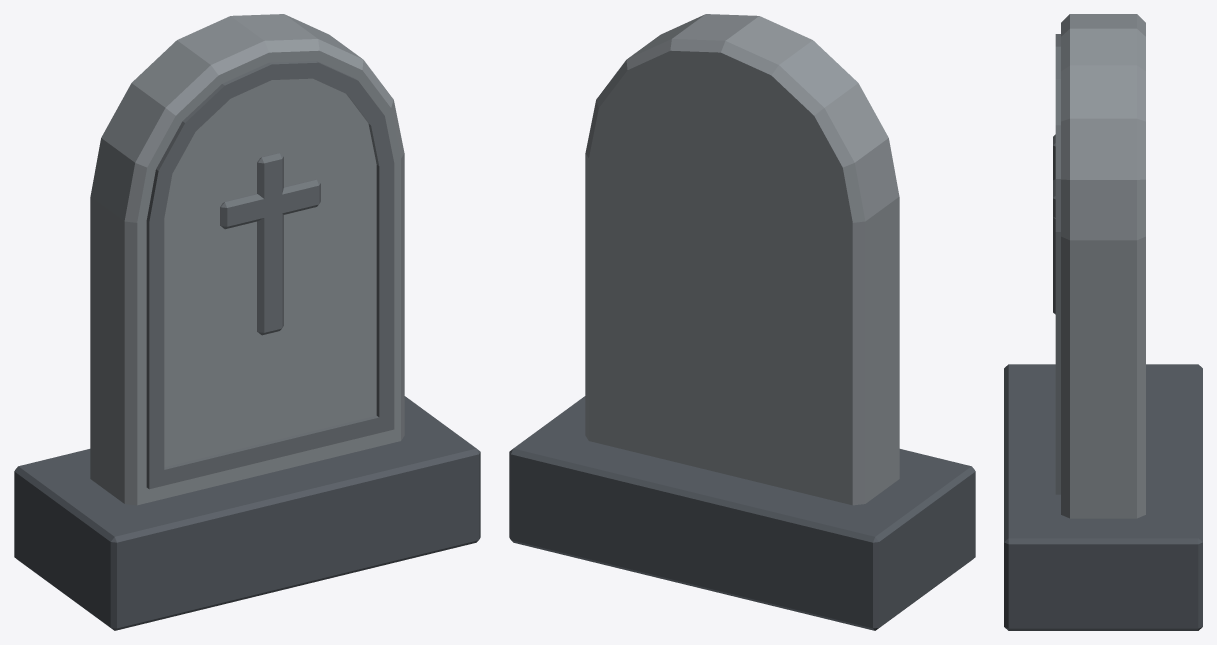
Rendered from mdvl_props_tombstone_01.glb.
The picture shows the model from 3 angles, left to right: view 1: azimuth 30°, elevation 25°; view 2: azimuth 150°, elevation 25°; view 3: azimuth 270°, elevation 25°; orthographic projection.
Visible parts, largest first — view 1: mdvl_props_tombstone_01; view 2: mdvl_props_tombstone_01; view 3: mdvl_props_tombstone_01.
Part boxes in pixels (<box>): mdvl_props_tombstone_01: <box>14,14,480,630</box>; mdvl_props_tombstone_01: <box>509,14,975,630</box>; mdvl_props_tombstone_01: <box>1004,14,1202,630</box>.
Size of the model in its own units: 0.74 by 1 by 0.35.
Materials: 1 (1 with a texture image).
